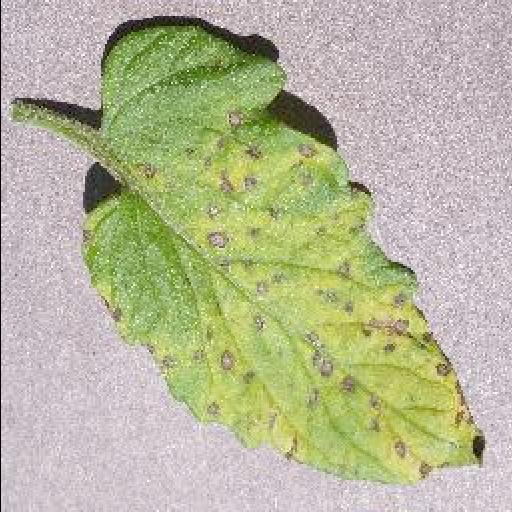disease_tomato: (82, 23, 490, 484)
